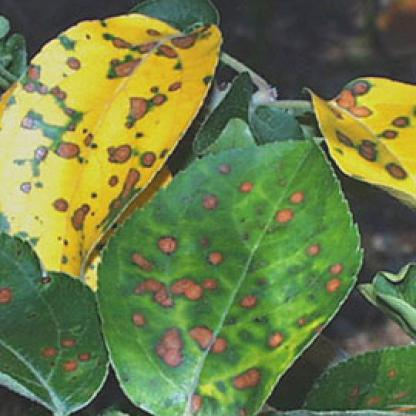Apple rust leaf: (102, 125, 365, 414), (2, 15, 243, 293), (297, 62, 414, 206)
